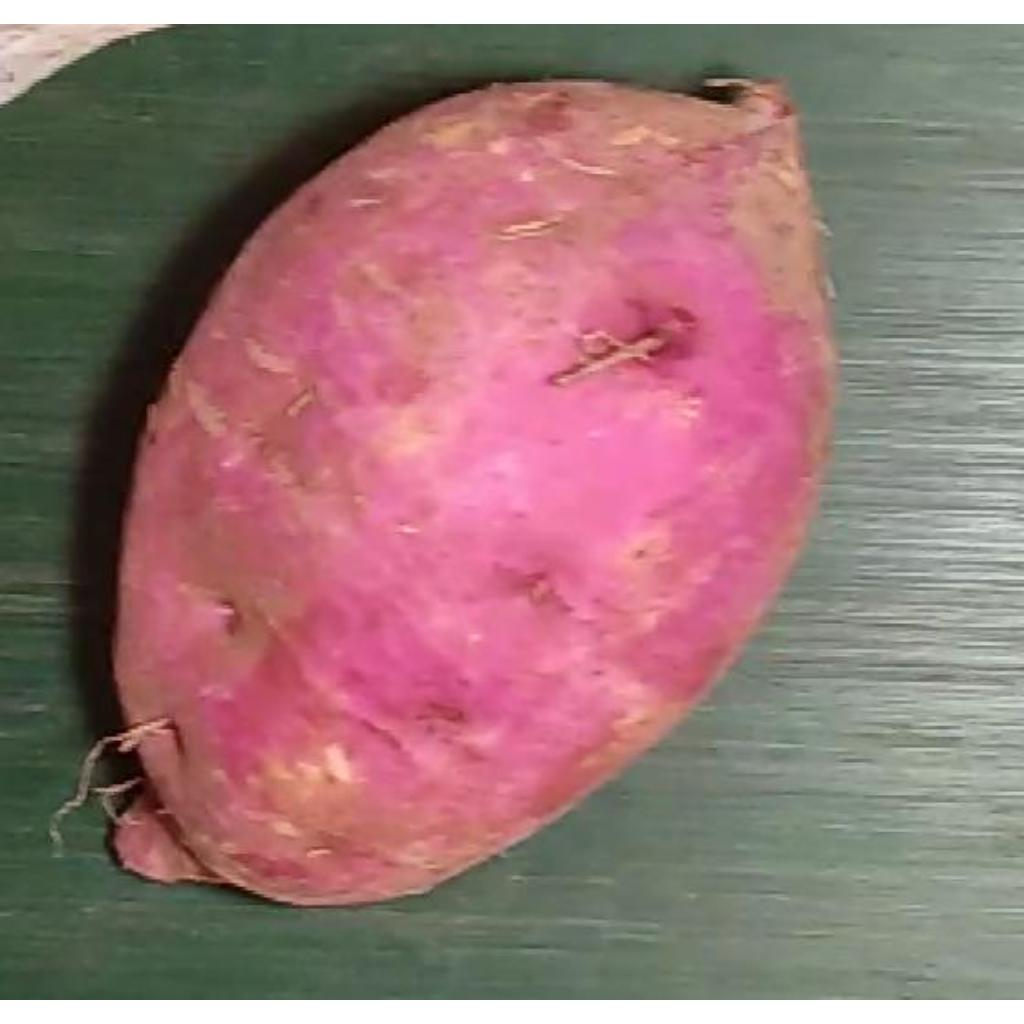Sweet Potato: (110, 77, 841, 913)
